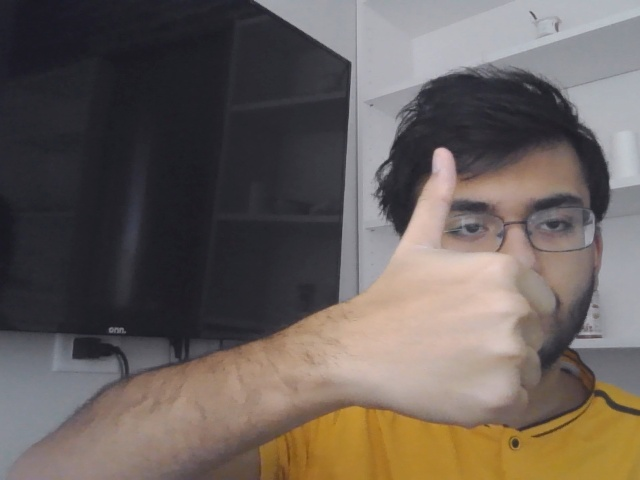ThumbsUp: (385, 147, 556, 428)
